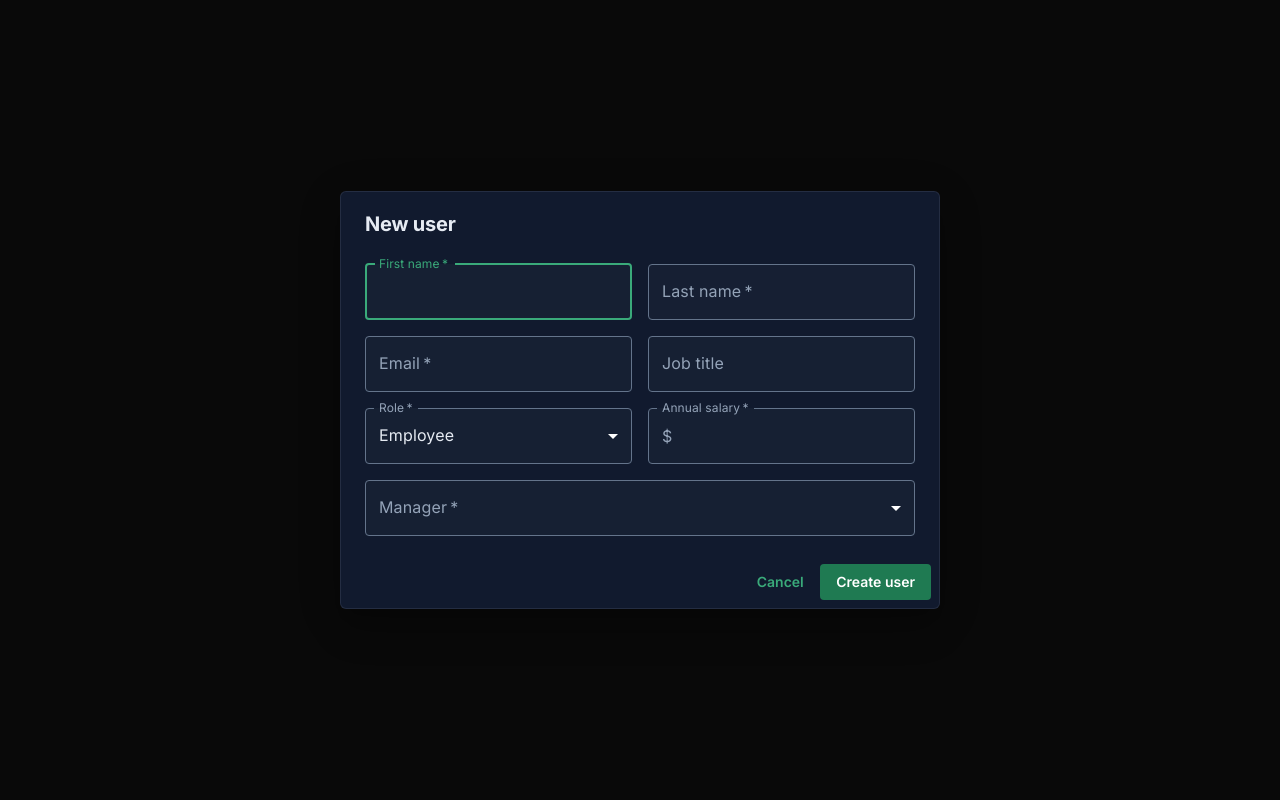
Test: UserFormDialog › validates required fields before submitting
This screenshot has width=1280, height=800.
Click the button "Create user": (876, 582) x1=820 y1=564 x2=931 y2=600
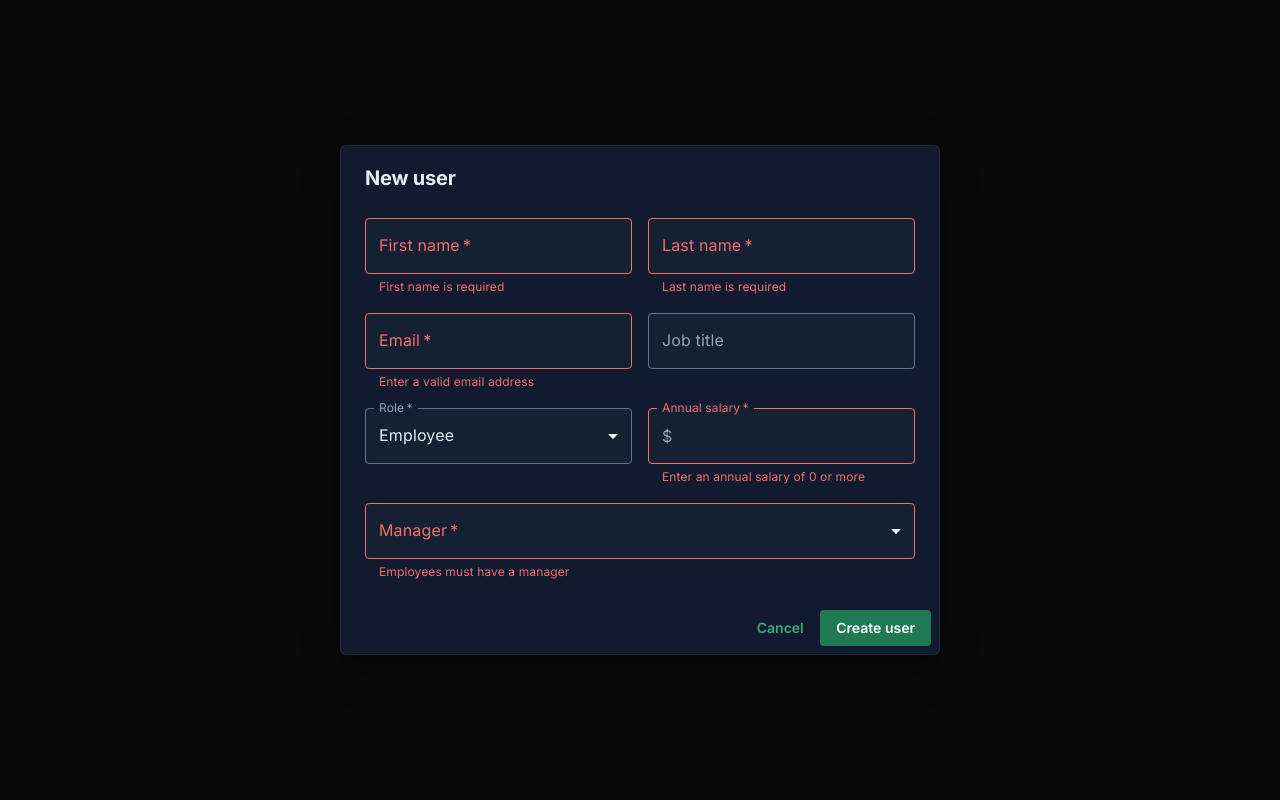
expect the text "First name is required" is shown: met, box x1=379 y1=279 x2=504 y2=294
expect the text "Enter a valid email address" is shown: met, box x1=379 y1=374 x2=534 y2=389
expect the text "Enter an annual salary of 0 or more" is shown: met, box x1=662 y1=469 x2=865 y2=484
